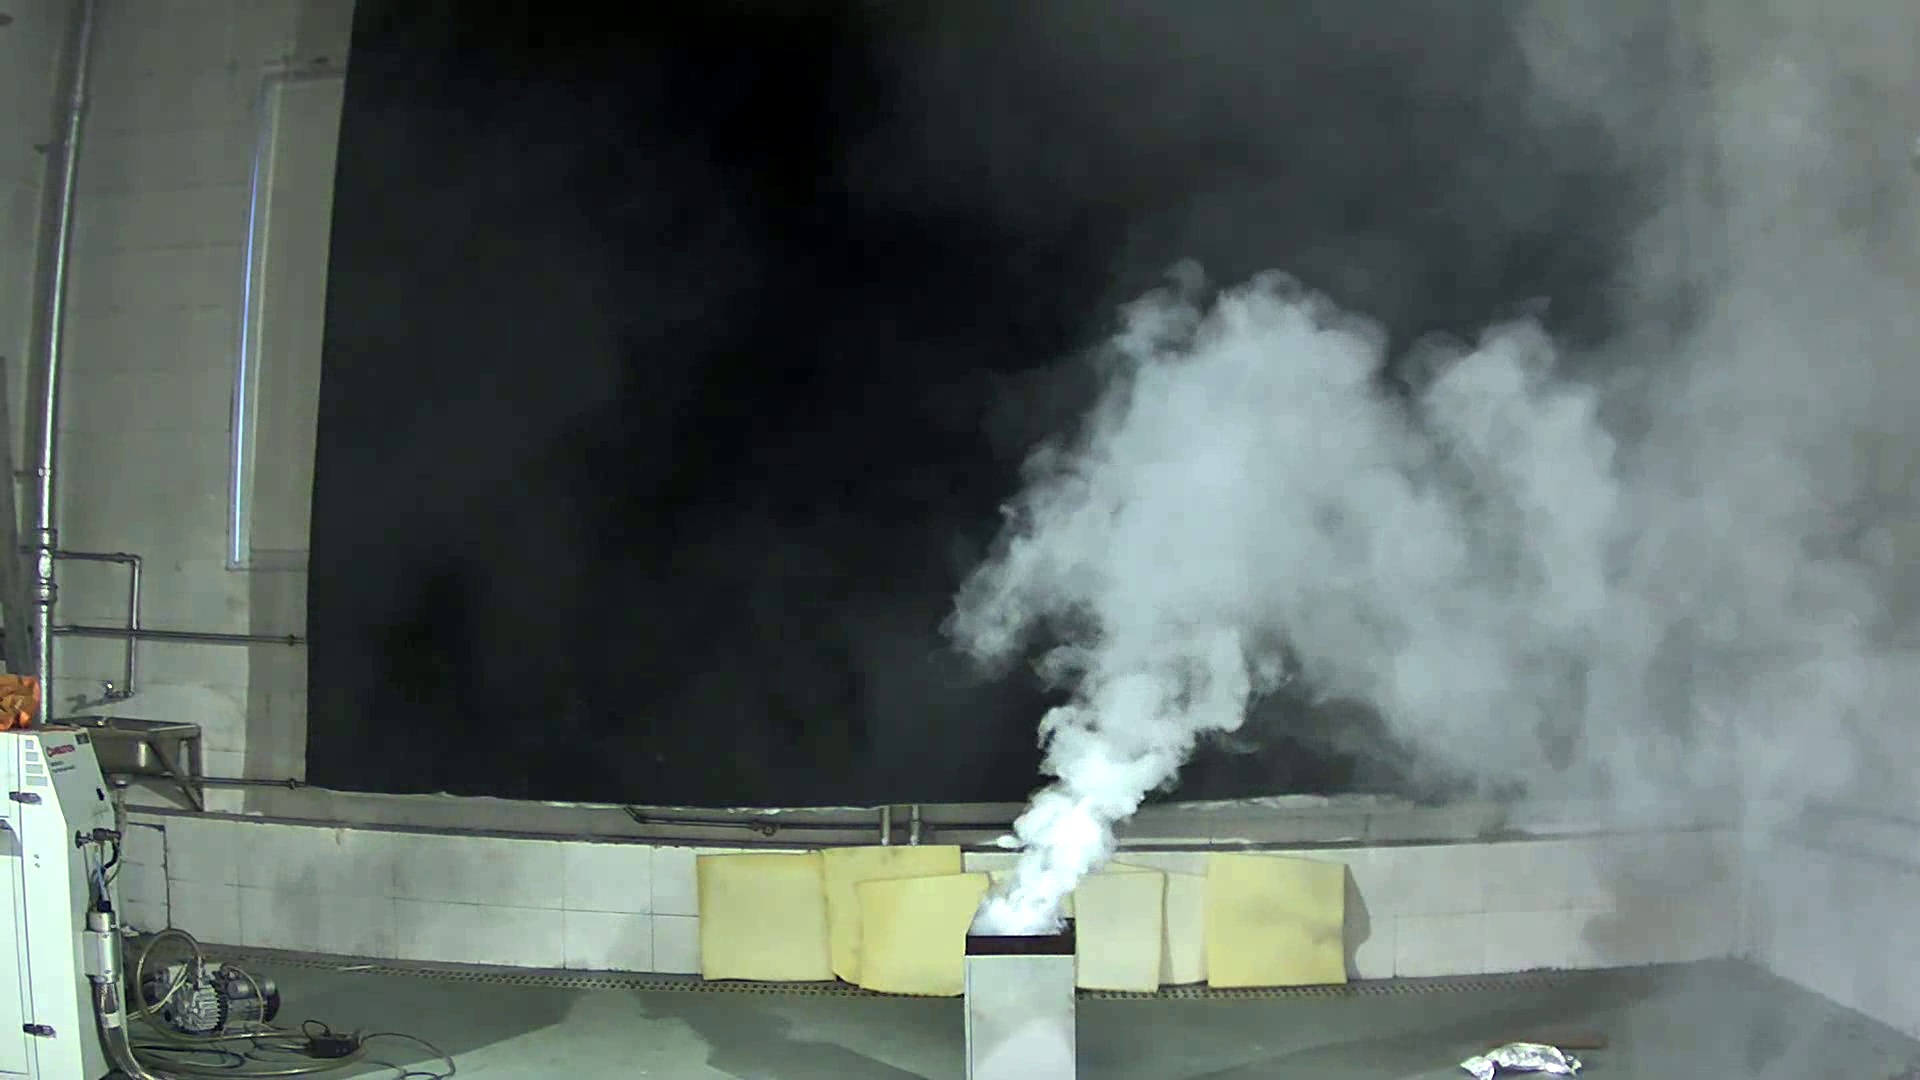smoke: (887, 232, 1783, 934)
